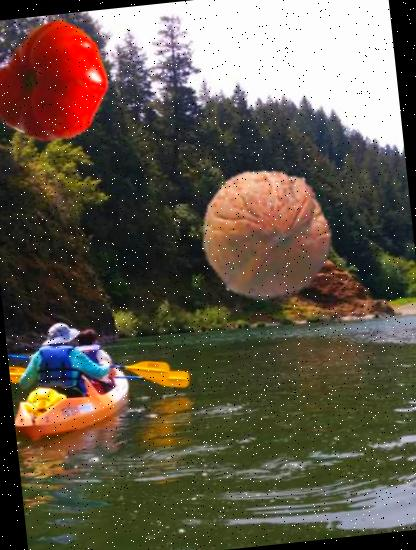Tomato: (0, 13, 120, 147)
Walnut: (192, 160, 340, 309)
